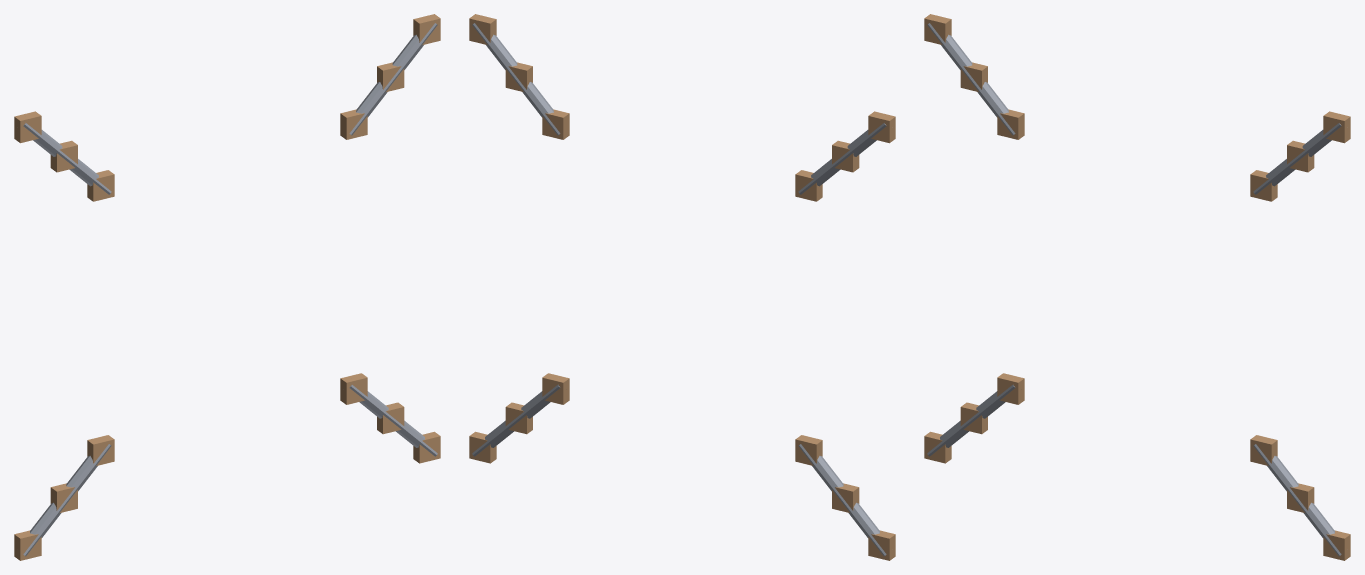
The model's file is RingClamps.obj.
3 renders of one model, left to right at view 1: azimuth 30°, elevation 25°; view 2: azimuth 150°, elevation 25°; view 3: azimuth 330°, elevation 25°, orthographic.
Visible parts, largest first — view 1: RingClamps; view 2: RingClamps; view 3: RingClamps.
Boxes of the visible parts, left/top/right/bottom form: RingClamps: left=14, top=14, right=440, bottom=560; RingClamps: left=469, top=14, right=895, bottom=560; RingClamps: left=924, top=14, right=1350, bottom=560.
Size of the model in its own units: 13.86 by 13.86 by 0.4.
1 material, 1 textured.
